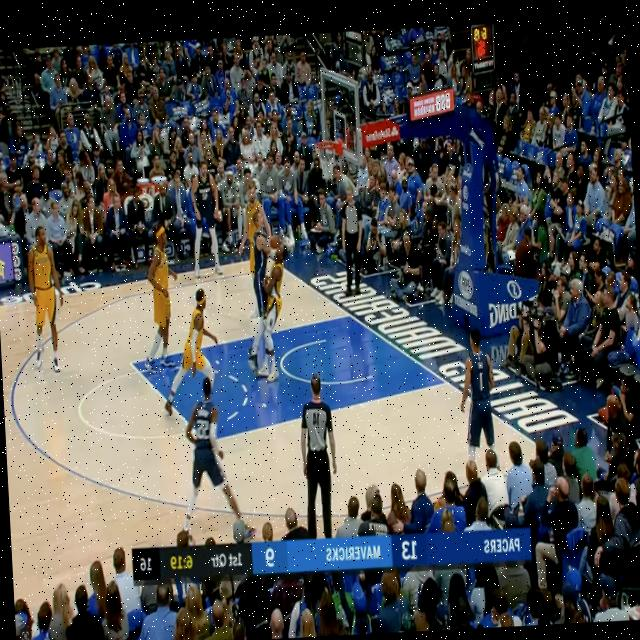foul: (236, 200, 302, 385)
no foul: (128, 220, 227, 421)
